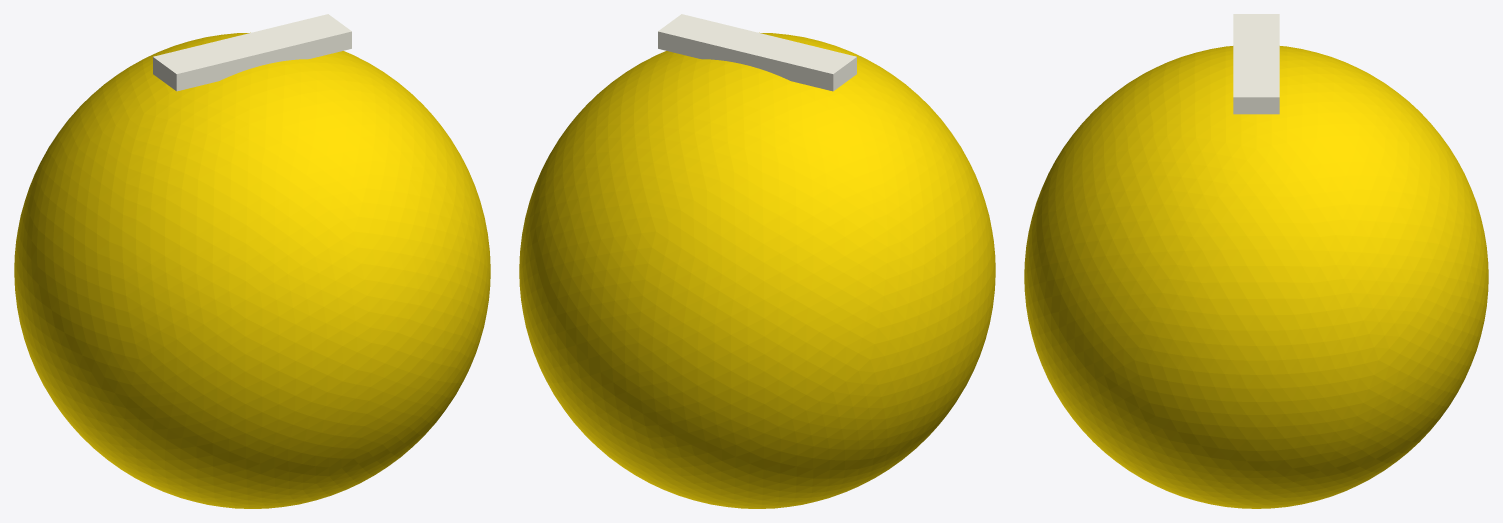
Rendered from modelo.glb.
3 views of the same model, side by side, from view 1: azimuth 30°, elevation 25°; view 2: azimuth 150°, elevation 25°; view 3: azimuth 270°, elevation 25° (orthographic). The views are drawn at different scales.
Visible parts, largest first — view 1: eletron, sinal_negativo; view 2: eletron, sinal_negativo; view 3: eletron, sinal_negativo.
Part boxes in pixels (bbox=[...]): eletron: bbox=[14, 32, 490, 508]; sinal_negativo: bbox=[153, 14, 351, 91]; eletron: bbox=[519, 32, 995, 508]; sinal_negativo: bbox=[658, 14, 856, 91]; eletron: bbox=[1024, 46, 1488, 508]; sinal_negativo: bbox=[1233, 14, 1279, 114].
Size of the model in its own units: 0.2 by 0.205 by 0.2.
